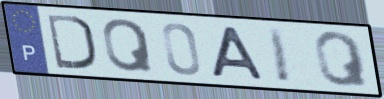0: (159, 21, 203, 77)
A: (209, 24, 268, 82)
D: (44, 12, 98, 72)
I: (265, 26, 294, 85)
Q: (312, 29, 372, 89), (101, 17, 157, 74)
